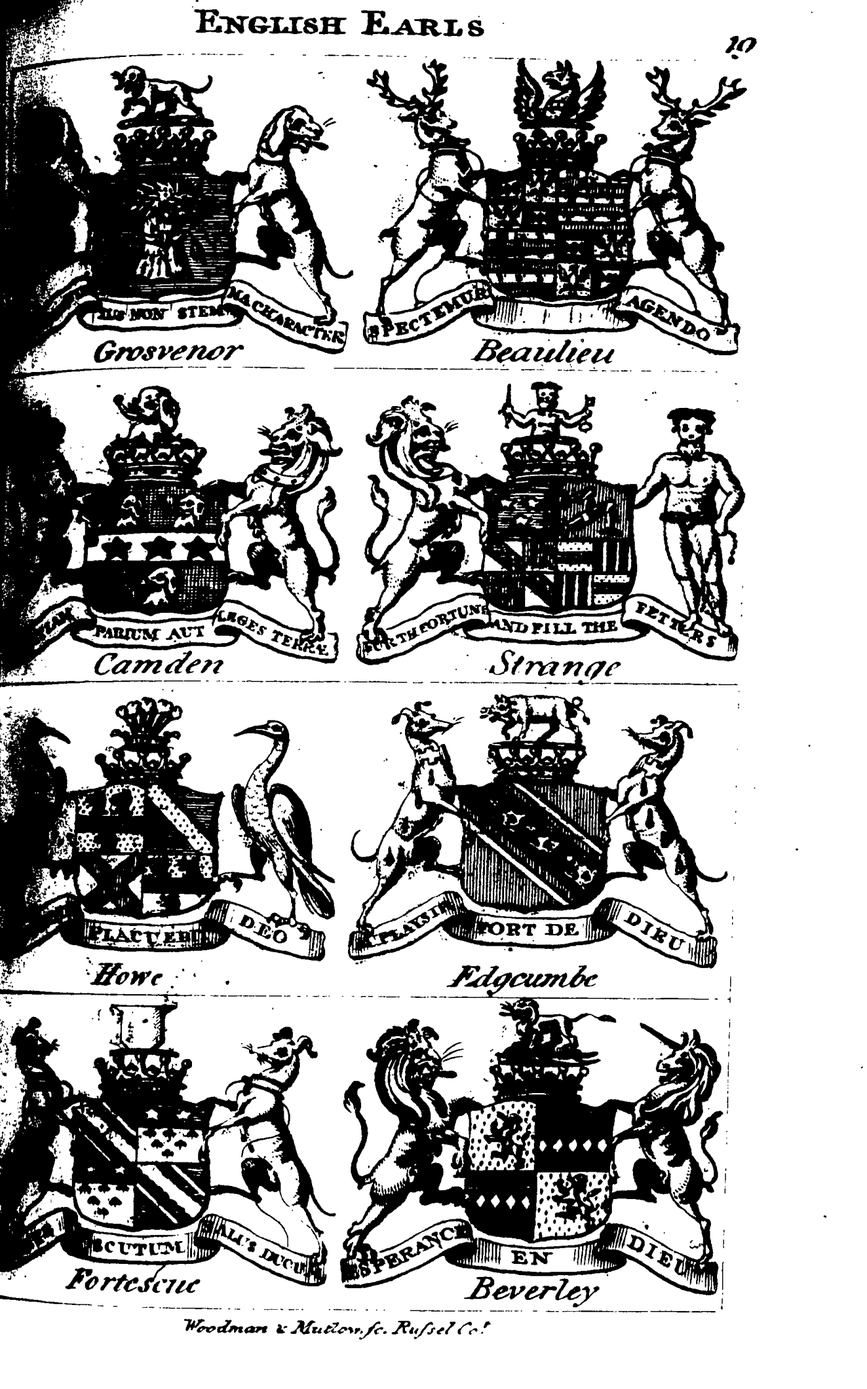coat_of_arms: (358, 50, 753, 366), (352, 373, 754, 678), (337, 995, 723, 1309), (342, 690, 732, 997), (8, 71, 350, 374), (4, 378, 341, 684), (5, 1002, 335, 1305), (12, 694, 344, 995)
